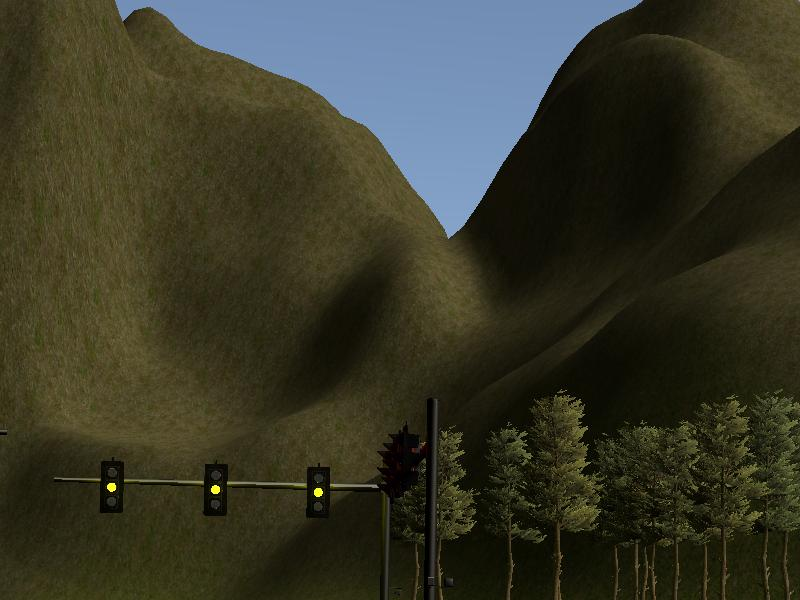Yellow: (305, 467, 331, 517), (204, 462, 227, 517), (101, 460, 124, 513)
